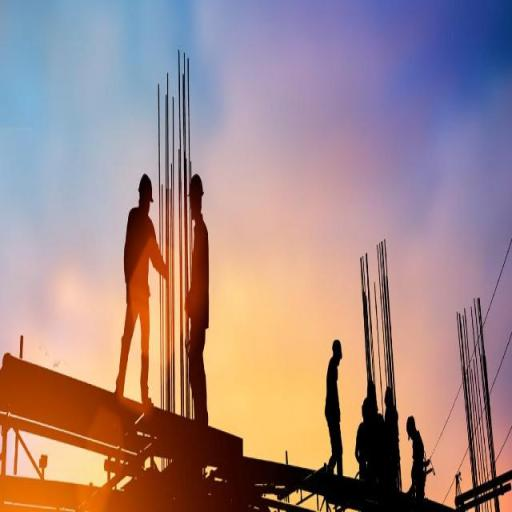helmet: (137, 166, 156, 198), (188, 165, 206, 197), (330, 332, 345, 360)
vest: (122, 206, 155, 309)
